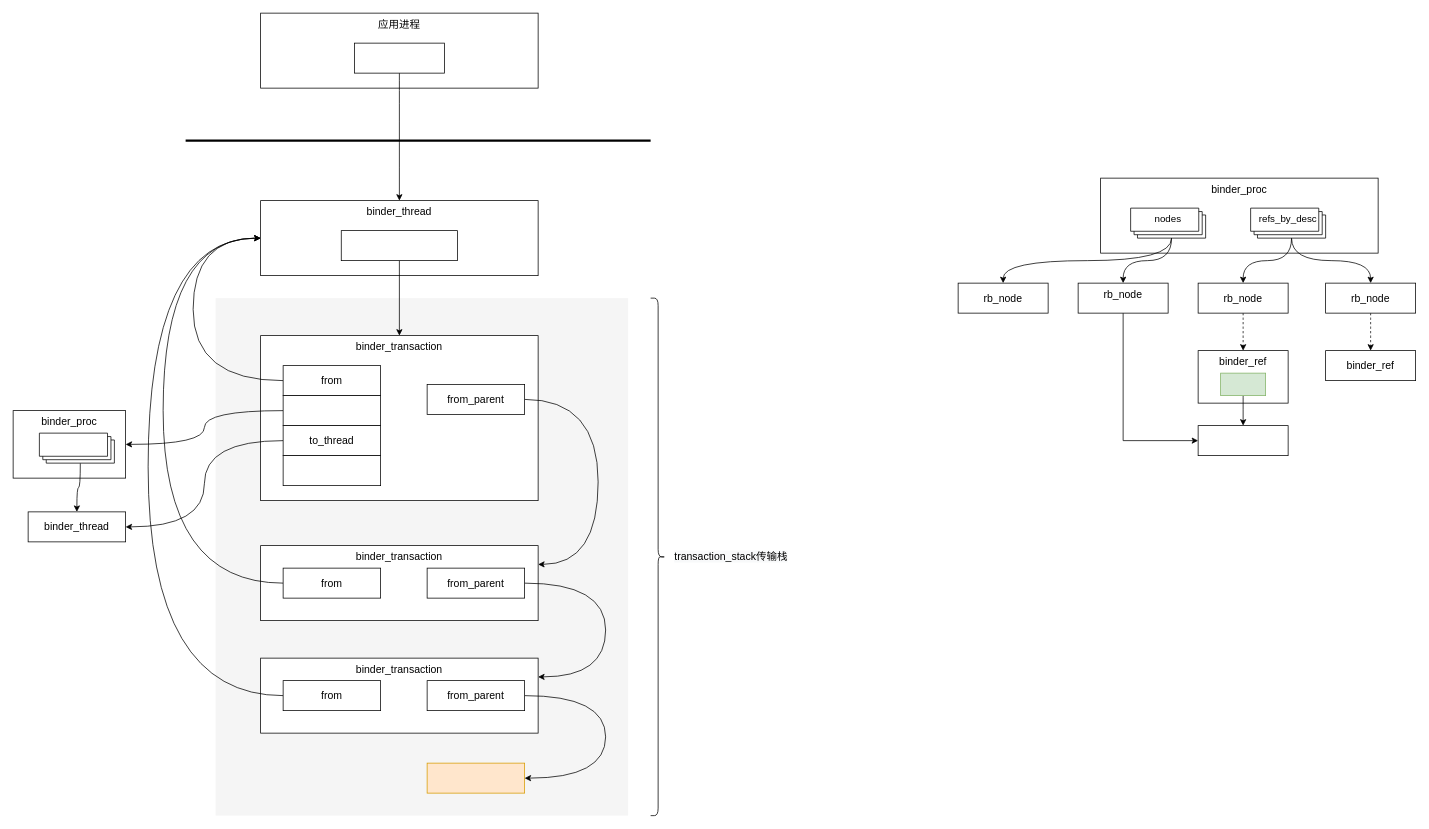
Some shapes in this 1429 by 829 pixel diagram are drawn without their labels. Each missing label, with the box of its shape:
binder_node: (1197, 425, 1288, 456)
Binder调用线程: (354, 42, 444, 73)
buffer: (282, 455, 381, 486)
node: (1220, 372, 1266, 396)
NULL: (426, 762, 525, 793)
threads: (39, 432, 114, 463)
to_proc: (282, 395, 381, 426)
transaction_stack: (340, 230, 458, 261)
